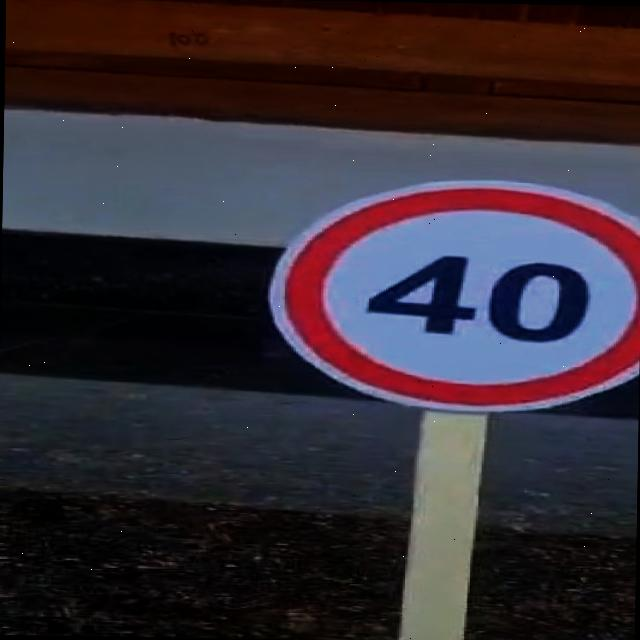Speed40: (250, 160, 640, 421)
